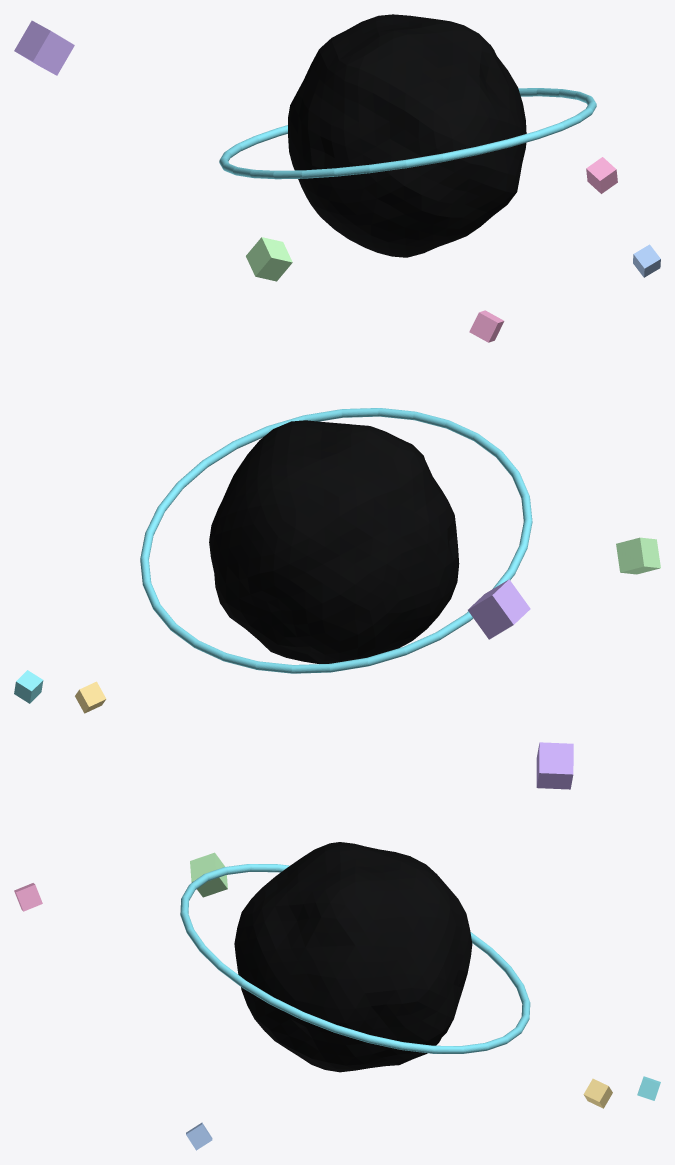
The model's file is moon.glb.
3 renders of one model, top to bottom at view 1: azimuth 30°, elevation 25°; view 2: azimuth 150°, elevation 25°; view 3: azimuth 270°, elevation 25°, orthographic. The views are drawn at different scales.
Visible parts, largest first — view 1: Moon, OrbitRing, Block0, Block2, Block3, Block5; view 2: Moon, OrbitRing, Block0, Block2, Block3, Block1, Block4; view 3: Moon, OrbitRing, Block0, Block2.
Part boxes in pixels (x1=…): Moon: x1=288, y1=14, x2=526, y2=257; OrbitRing: x1=219, y1=88, x2=596, y2=179; Block0: x1=14, y1=20, x2=74, y2=75; Block2: x1=246, y1=237, x2=292, y2=281; Block3: x1=586, y1=157, x2=617, y2=193; Block5: x1=633, y1=244, x2=660, y2=277; Moon: x1=209, y1=420, x2=459, y2=663; OrbitRing: x1=140, y1=408, x2=532, y2=673; Block0: x1=468, y1=579, x2=530, y2=639; Block2: x1=616, y1=537, x2=660, y2=574; Block3: x1=469, y1=310, x2=504, y2=342; Block1: x1=14, y1=670, x2=43, y2=703; Block4: x1=75, y1=681, x2=106, y2=713; Moon: x1=234, y1=842, x2=472, y2=1072; OrbitRing: x1=180, y1=864, x2=530, y2=1053; Block0: x1=536, y1=742, x2=573, y2=789; Block2: x1=190, y1=852, x2=227, y2=897.
Size of the model in its own units: 4.33 by 2.09 by 5.56.
